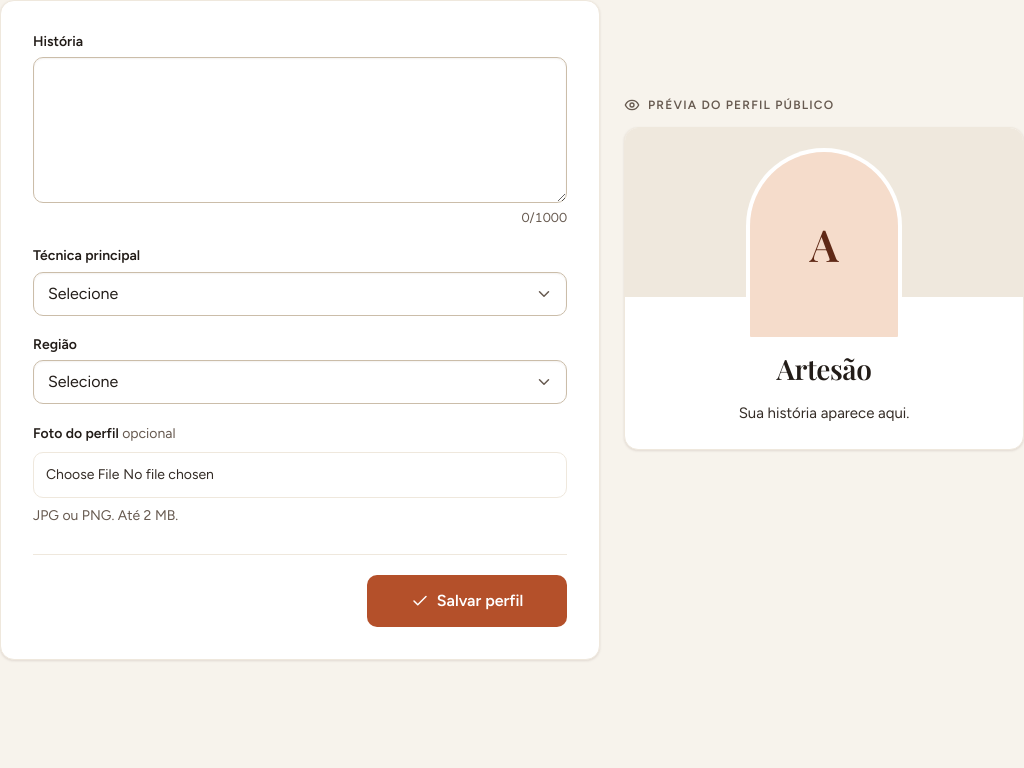
PerfilArtesaoForm › cenario US03 - perfil completo: preenche historia, tecnica e regiao e confirma sucesso
Type "Historia com detalhes suficientes sobre a origem da peca." into the text box labelled "História" at (300, 130), box [33,57,567,203]
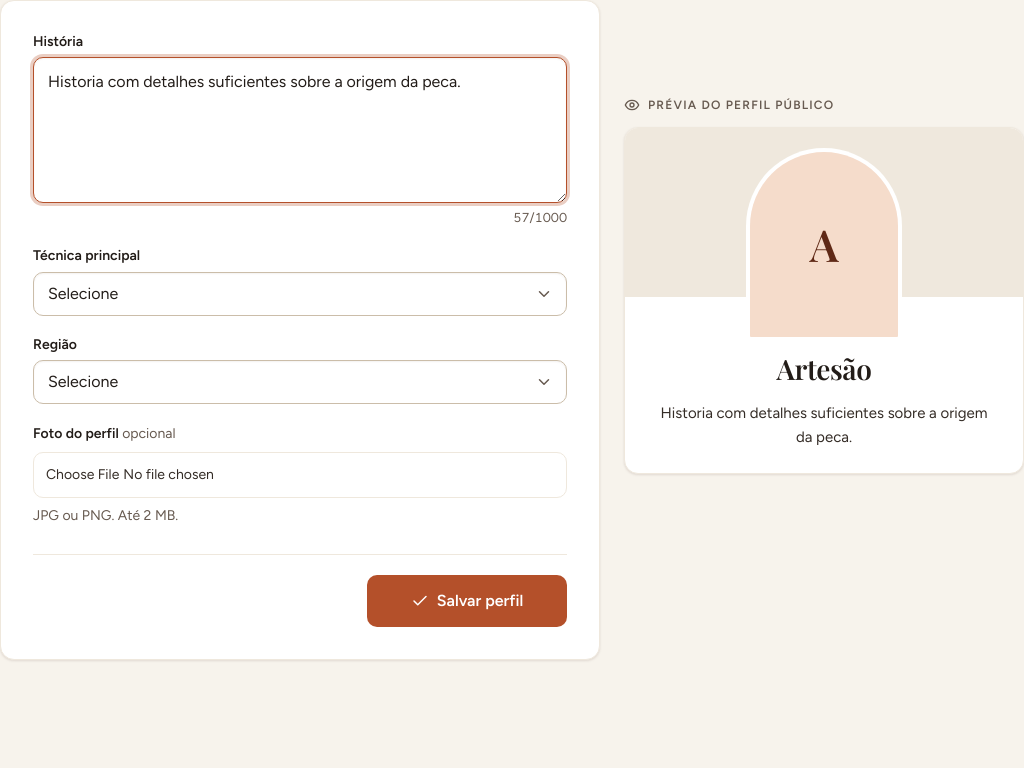
Select "Marcenaria Artesanal" in the dropdown labelled "Técnica principal" at (300, 294), box [33,272,567,316]
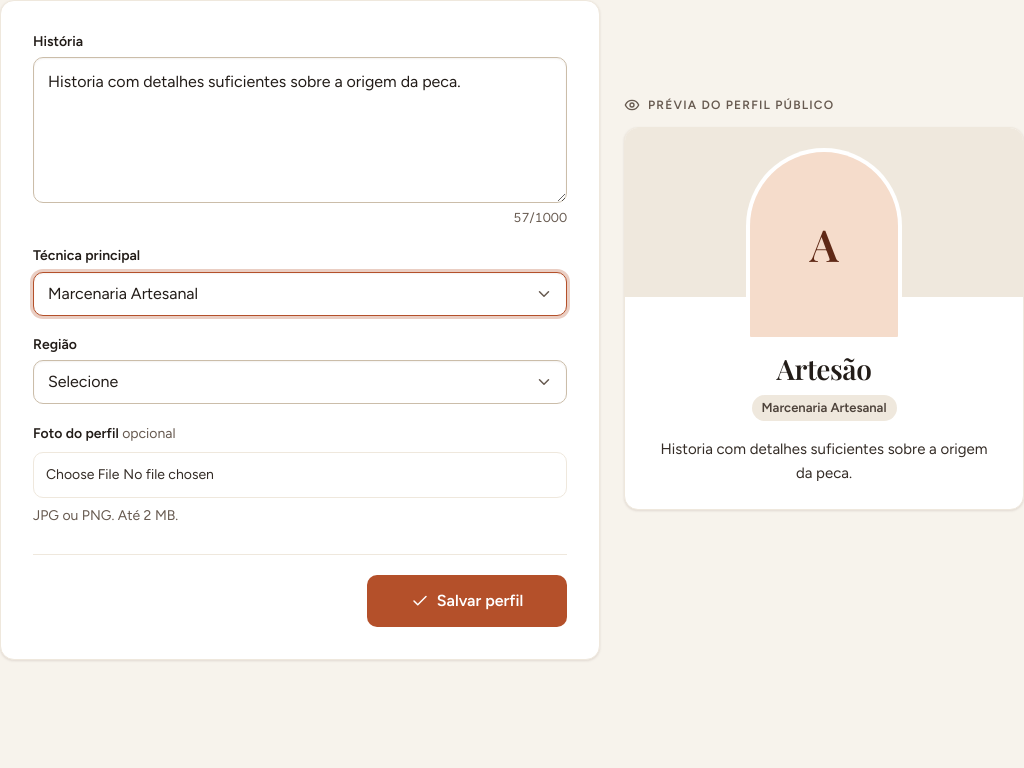
Select "Comunidade do Pilar - Recife" in the dropdown labelled "Região" at (300, 382), box [33,360,567,404]
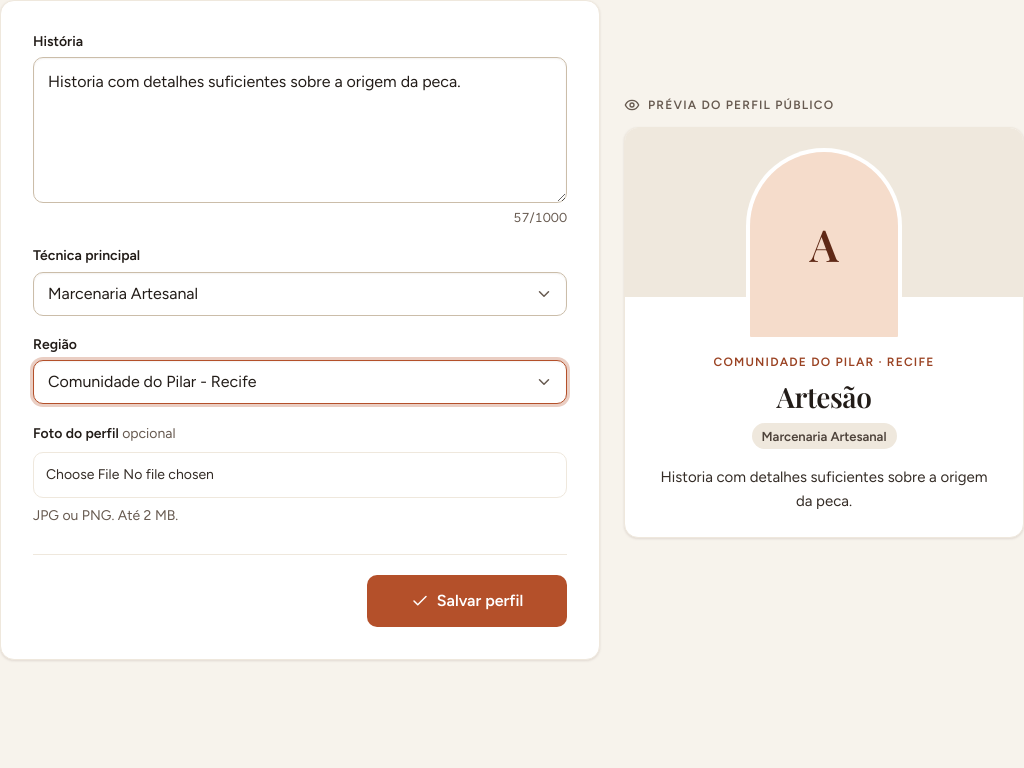
Click the button "Salvar perfil" at (467, 601), box [367,575,567,627]
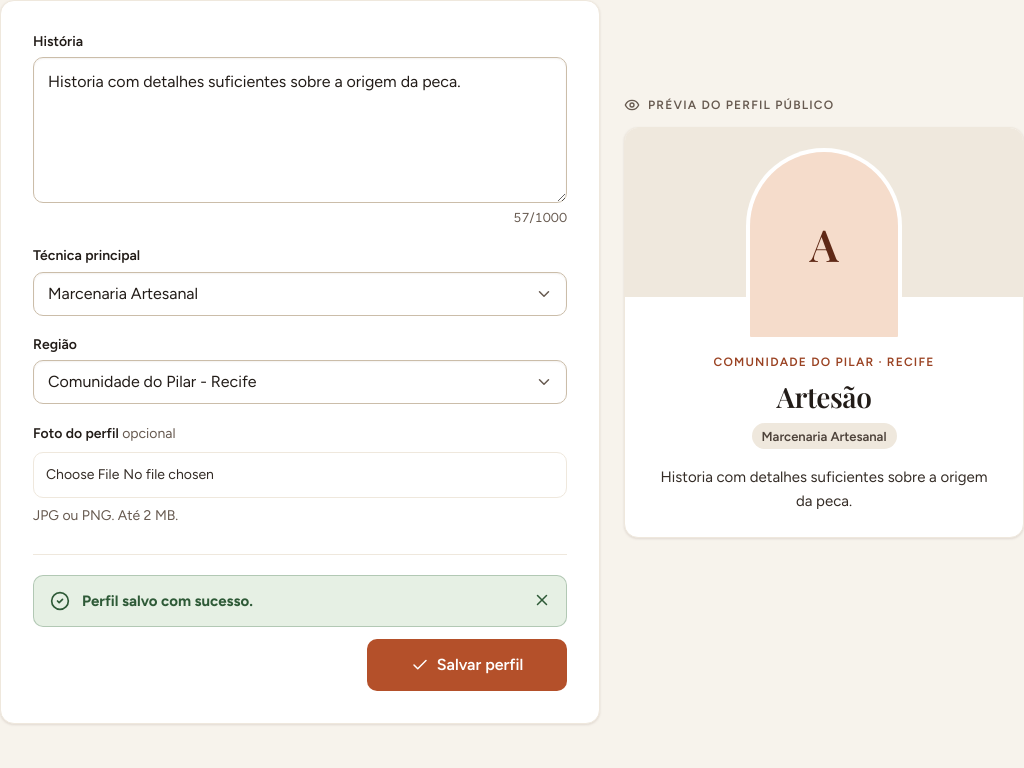
Expected: the message shows "salvo", [82,592,253,610]
